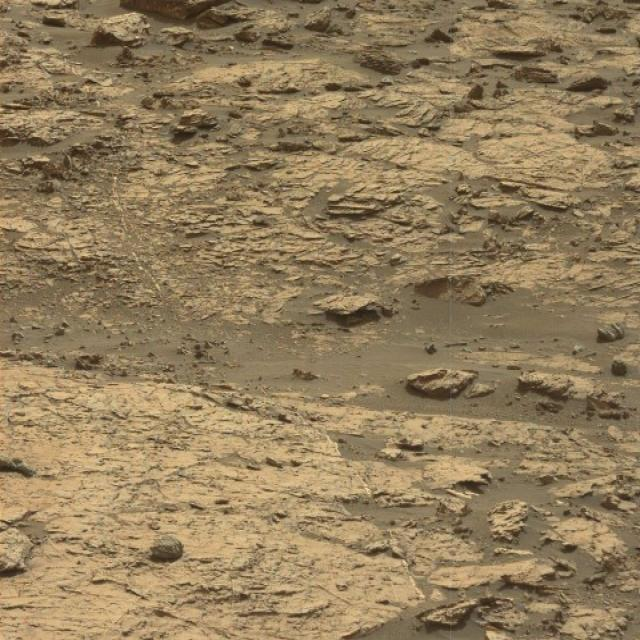rock: (406, 362, 474, 402), (314, 292, 387, 324), (514, 367, 576, 399)
